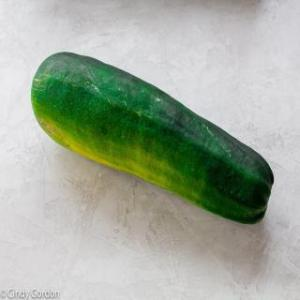zucchini: (31, 48, 280, 224)
